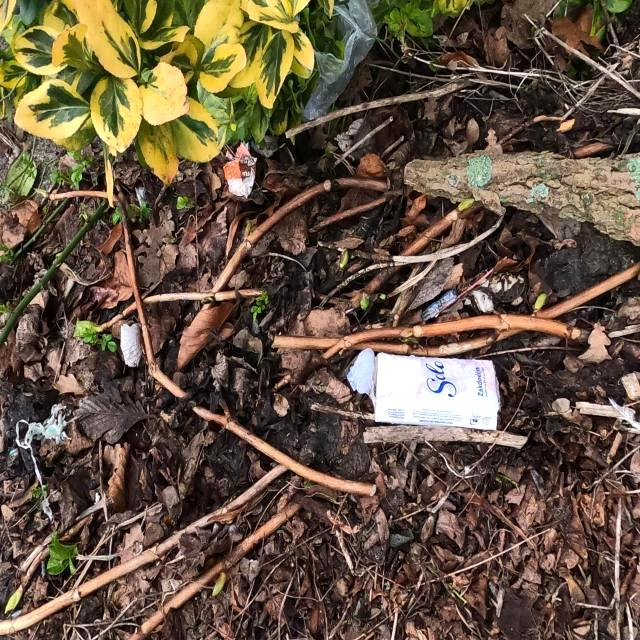Plastic: (222, 138, 258, 200)
